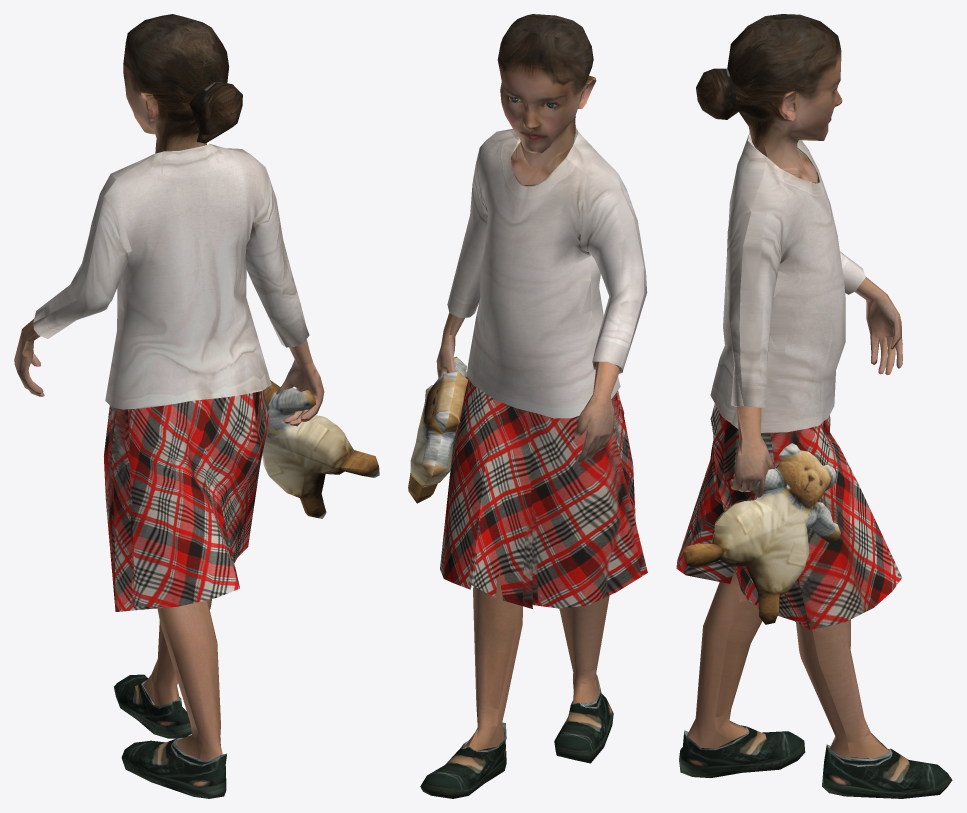
The model's file is teacher.glb.
3 views of the same model, side by side, from view 1: azimuth 30°, elevation 25°; view 2: azimuth 150°, elevation 25°; view 3: azimuth 270°, elevation 25° (orthographic). The views are drawn at different scales.
Visible parts, largest first — view 1: CGirl0001-; view 2: CGirl0001-; view 3: CGirl0001-.
Part boxes in pixels (left/top/right/bottom): CGirl0001-: left=14, top=14, right=379, bottom=798; CGirl0001-: left=408, top=14, right=647, bottom=798; CGirl0001-: left=676, top=14, right=952, bottom=798.
Size of the model in its own units: 0.0136 by 0.0351 by 0.0117.
Materials: 2 (2 with a texture image).
